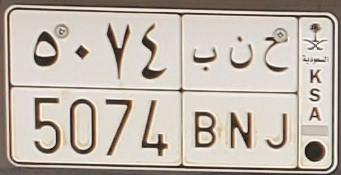0: (68, 44, 99, 155)
4: (139, 23, 171, 159)
5: (29, 31, 66, 154)
7: (100, 21, 133, 157)
B: (191, 45, 218, 150)
J: (261, 35, 290, 150)
N: (227, 35, 254, 151)
